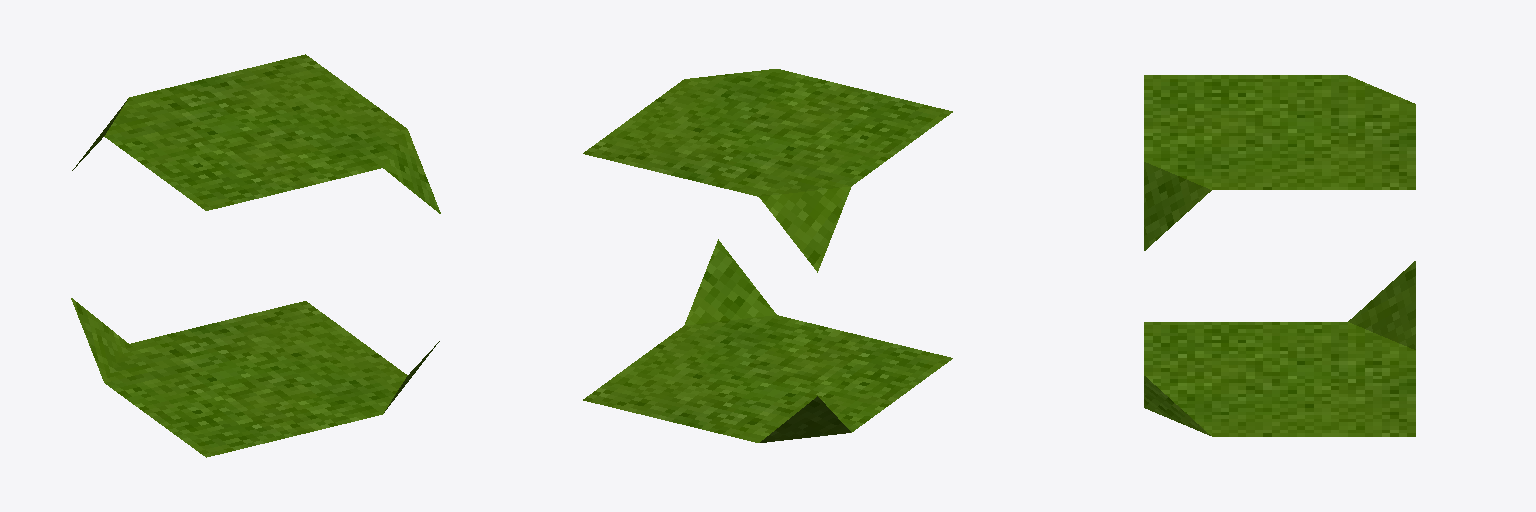
3 renders of one model, left to right at view 1: azimuth 30°, elevation 25°; view 2: azimuth 150°, elevation 25°; view 3: azimuth 270°, elevation 25°, orthographic.
Visible parts, largest first — view 1: Cube.013; view 2: Cube.013; view 3: Cube.013.
Boxes of the visible parts, x1=… form: Cube.013: x1=71, y1=54, x2=440, y2=457; Cube.013: x1=583, y1=69, x2=952, y2=442; Cube.013: x1=1144, y1=75, x2=1415, y2=436.
Bounding box in the file's own units: 1 × 1 × 1.
Materials: 1 (1 with a texture image).